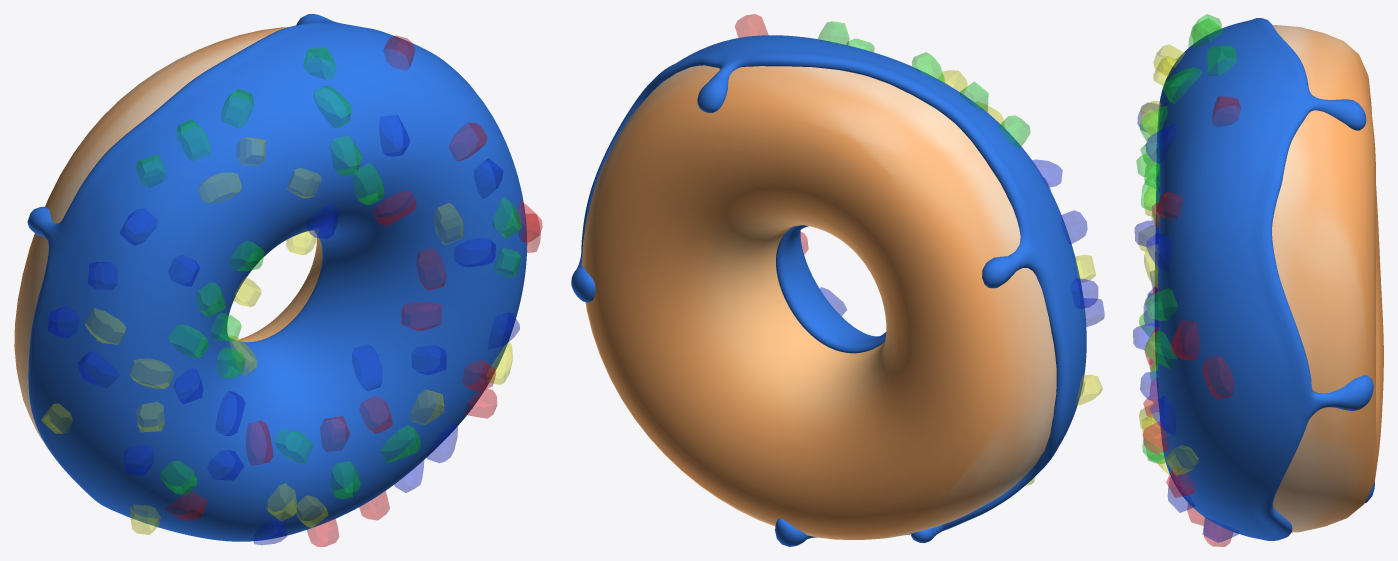
Rendered from donut.glb.
3 views of the same model, side by side, from view 1: azimuth 30°, elevation 25°; view 2: azimuth 150°, elevation 25°; view 3: azimuth 270°, elevation 25° (orthographic). The views are drawn at different scales.
Parts seen in each view (by area): view 1: Icing.001, Bread.001; view 2: Bread.001, Icing.001; view 3: Icing.001, Bread.001.
Part boxes in pixels (box(x1,y1,x2,y2)): Icing.001: box(27, 14, 542, 546); Bread.001: box(14, 27, 322, 449); Bread.001: box(582, 65, 1056, 539); Icing.001: box(571, 14, 1104, 546); Icing.001: box(1133, 14, 1374, 546); Bread.001: box(1272, 24, 1383, 532).
Size of the model in its own units: 0.127 by 0.1202 by 0.0567.
10 materials, 1 textured.
